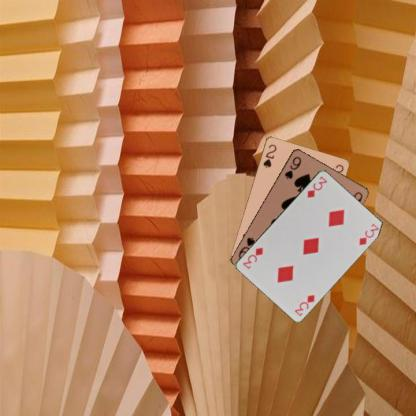2s: (260, 142, 278, 169)
3d: (304, 173, 329, 199), (292, 292, 316, 316)
9s: (282, 154, 302, 180)
